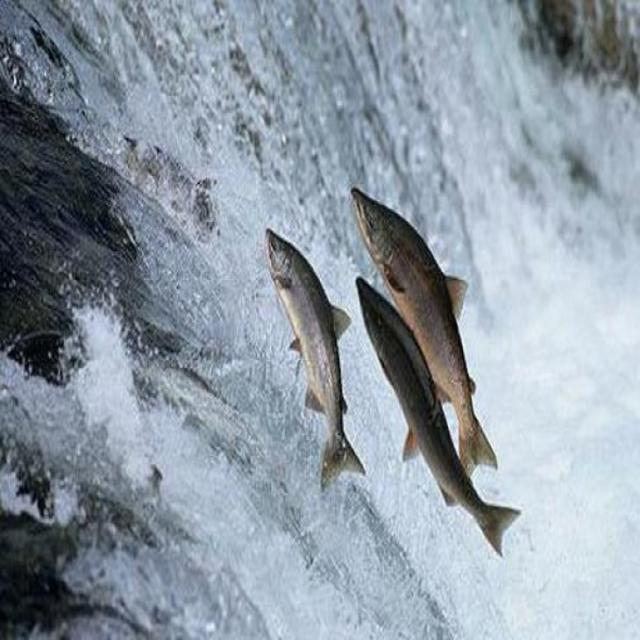salmon: (348, 258, 529, 566), (345, 162, 514, 472), (247, 231, 367, 510)
